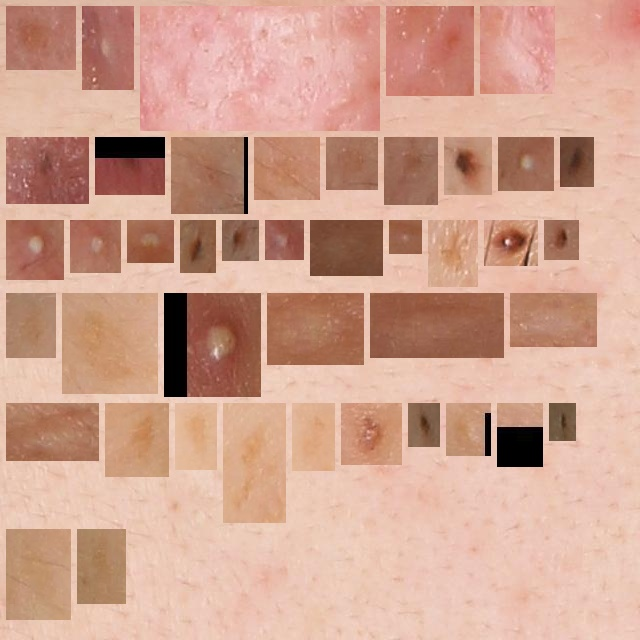hypertrophic_scar: (148, 14, 372, 123), (378, 301, 496, 350), (394, 14, 466, 88), (275, 301, 356, 357), (488, 14, 547, 86), (14, 411, 91, 453), (518, 301, 589, 339), (318, 228, 375, 268)
melasma: (70, 301, 150, 386), (231, 411, 278, 515), (179, 145, 240, 206), (14, 537, 63, 612), (113, 411, 161, 469), (14, 14, 68, 62), (262, 145, 312, 192), (392, 145, 430, 197), (85, 537, 118, 596), (436, 228, 470, 279), (14, 301, 48, 350), (505, 411, 535, 459), (300, 411, 327, 463), (334, 145, 370, 182), (183, 411, 209, 462), (454, 411, 483, 448)
nevus: (14, 145, 81, 196), (103, 145, 157, 187), (349, 411, 394, 457), (452, 145, 484, 187), (492, 228, 530, 258), (188, 228, 208, 265), (568, 145, 586, 179), (230, 228, 251, 253), (552, 228, 571, 252), (416, 411, 432, 439), (557, 411, 568, 433)
pustule: (172, 301, 253, 389), (90, 14, 126, 82), (14, 228, 56, 272), (506, 145, 546, 183), (78, 228, 113, 265), (135, 228, 166, 255), (273, 228, 296, 252), (397, 228, 414, 246)
